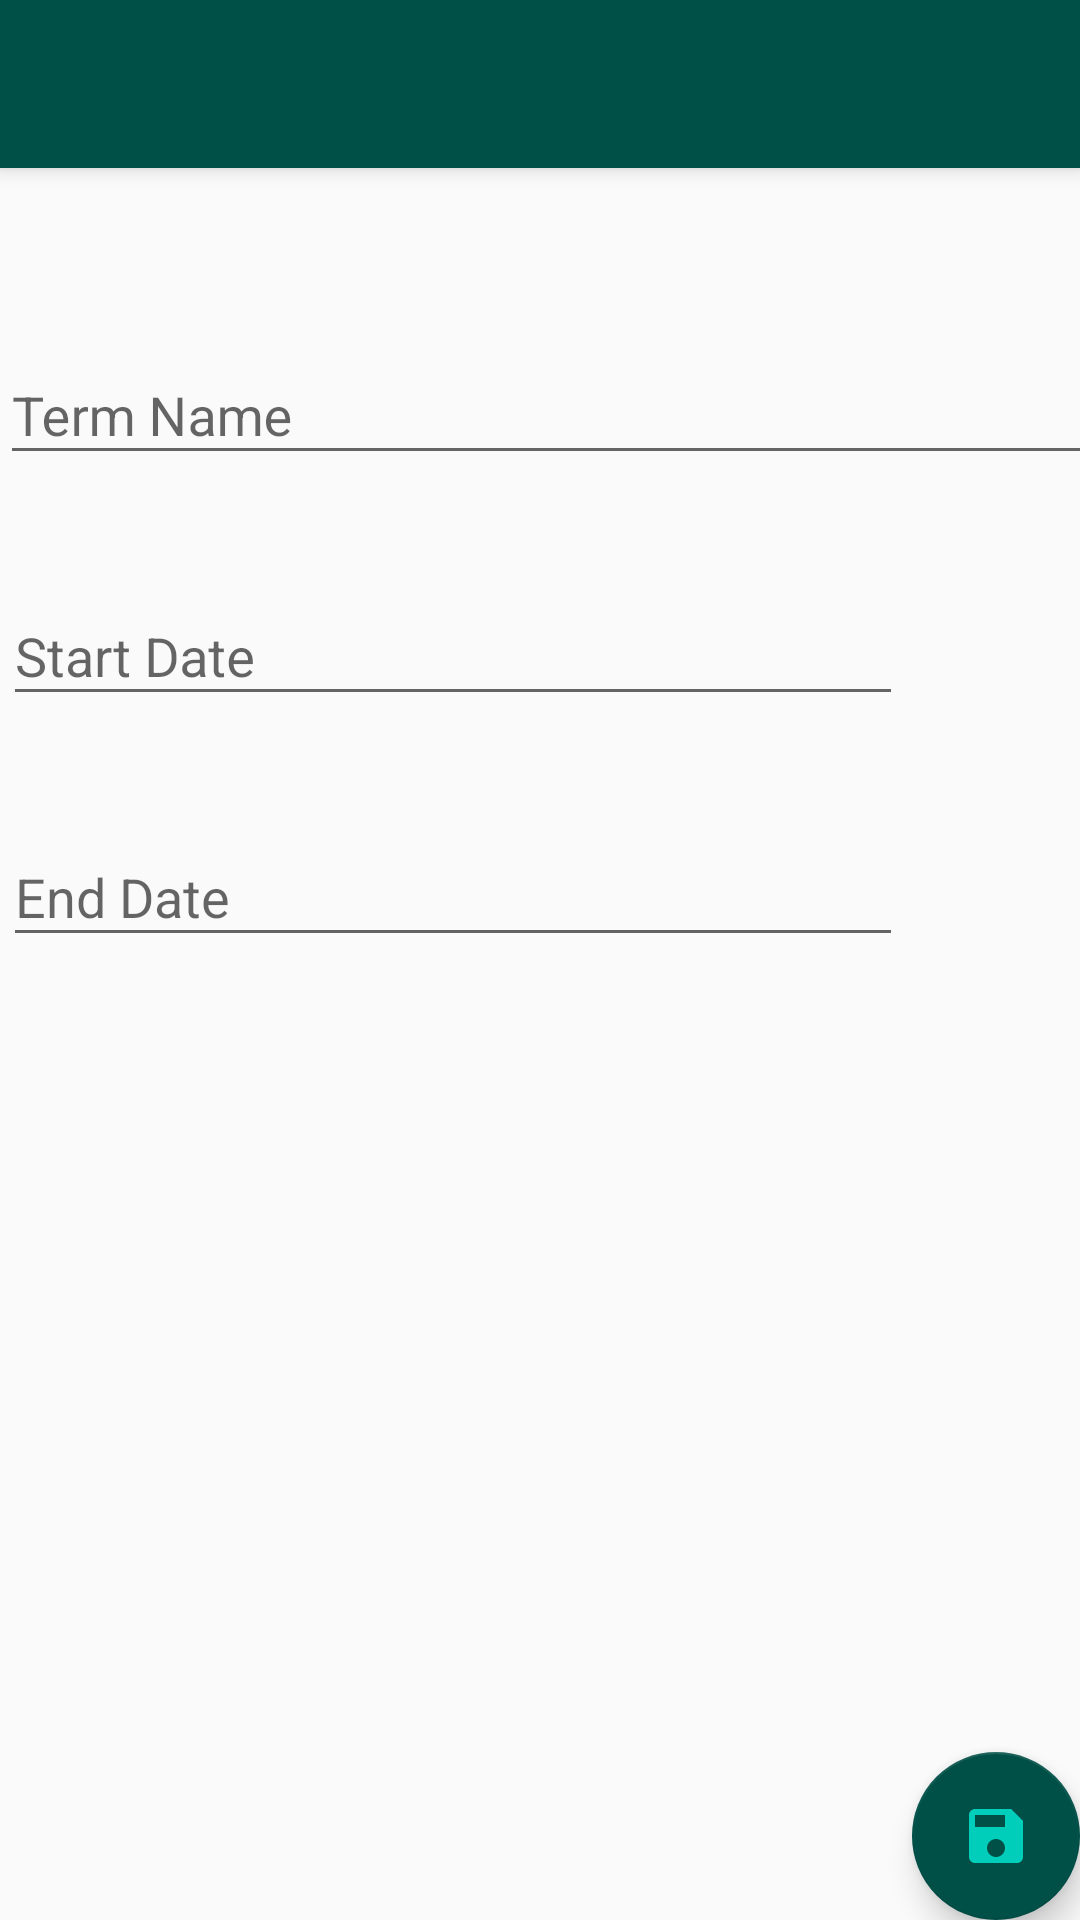

Icon click points for this 1080px×1920px phone screenshot, format (x=x, y=y):
save: (x=996, y=1836)
